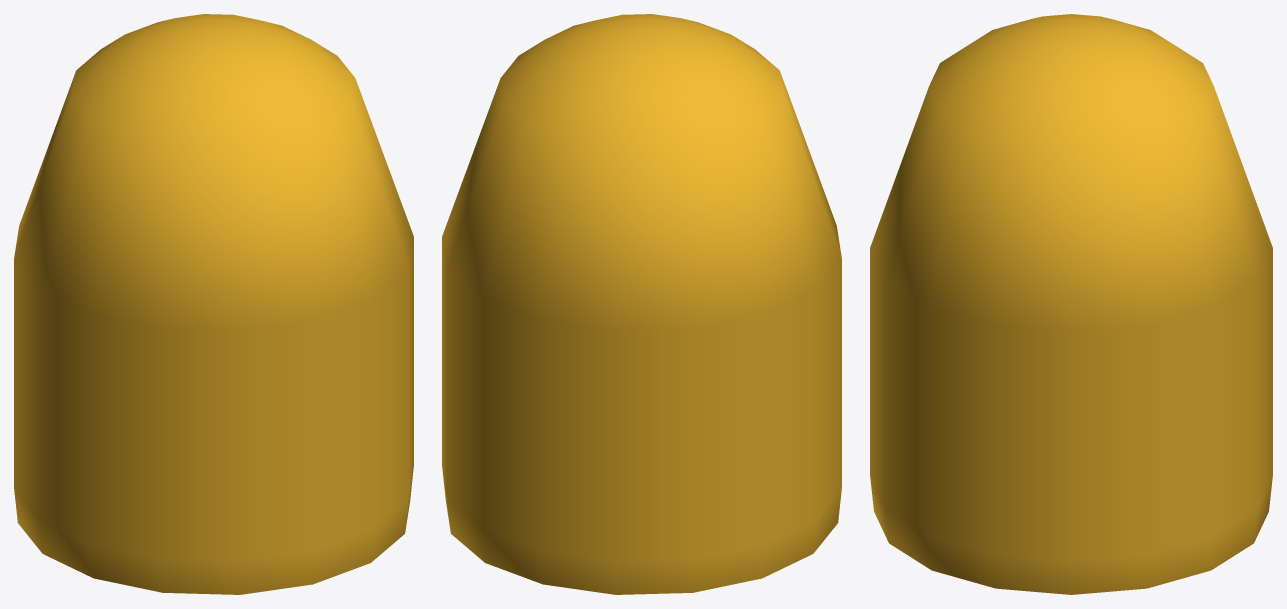
Rendered from human-hair.glb.
3 views of the same model, side by side, from view 1: azimuth 30°, elevation 25°; view 2: azimuth 150°, elevation 25°; view 3: azimuth 270°, elevation 25° (orthographic).
Visible parts, largest first — view 1: human-hair-node; view 2: human-hair-node; view 3: human-hair-node.
Part boxes in pixels (box(x1,y1,x2,y2)): human-hair-node: box(14, 14, 413, 594); human-hair-node: box(442, 14, 841, 594); human-hair-node: box(870, 14, 1272, 594).
Bounding box in the file's own units: 1.4 × 1.84 × 1.4.
